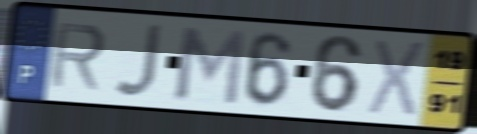6: (307, 32, 366, 116), (242, 29, 297, 111)
J: (111, 22, 166, 100)
M: (172, 23, 249, 108)
R: (46, 21, 109, 93)
X: (365, 36, 429, 121)
